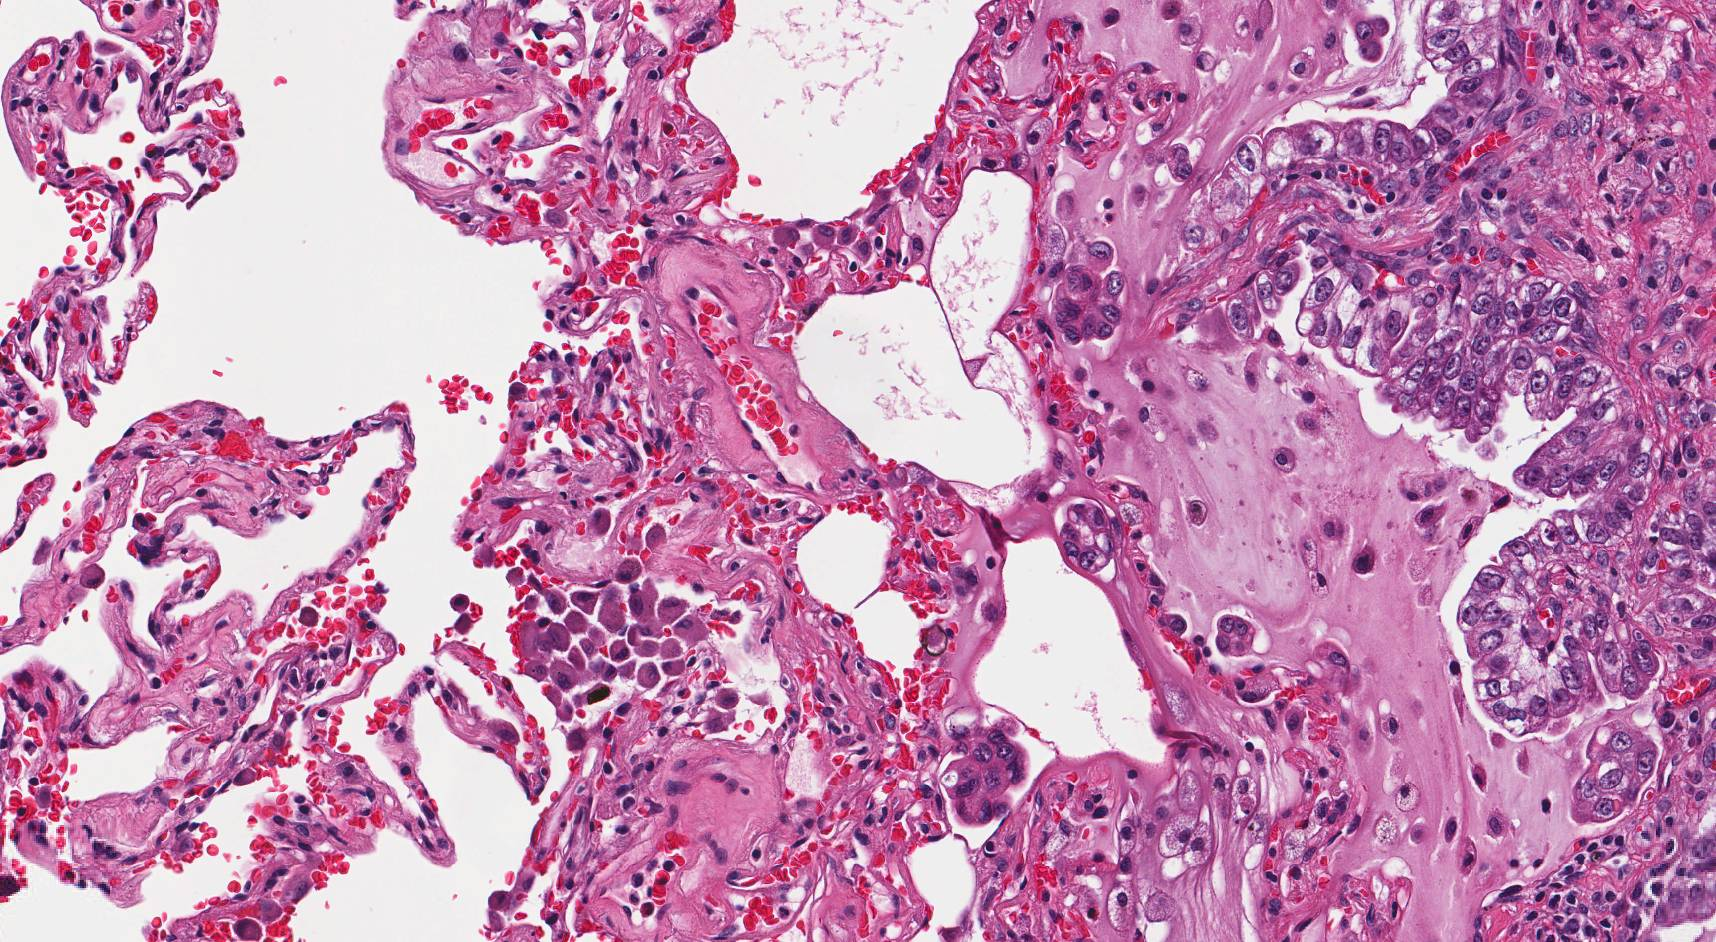stas: (938, 714, 1031, 831), (1055, 241, 1125, 345), (1056, 502, 1116, 577)
